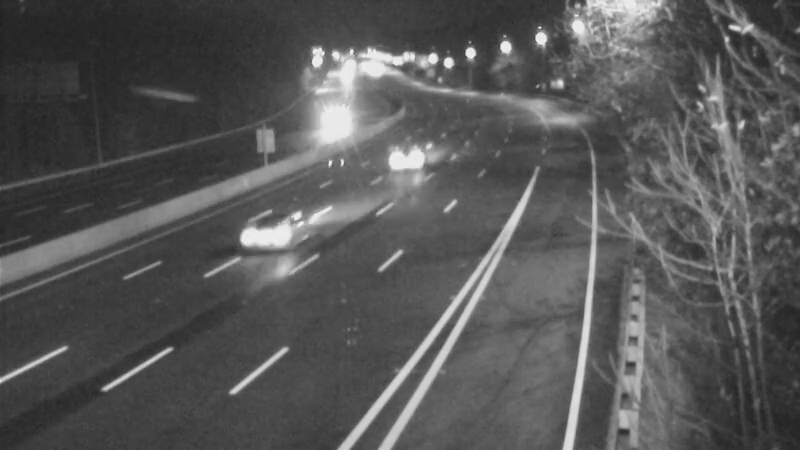vehicle: (367, 120, 447, 200), (228, 193, 308, 273), (312, 107, 362, 157)
